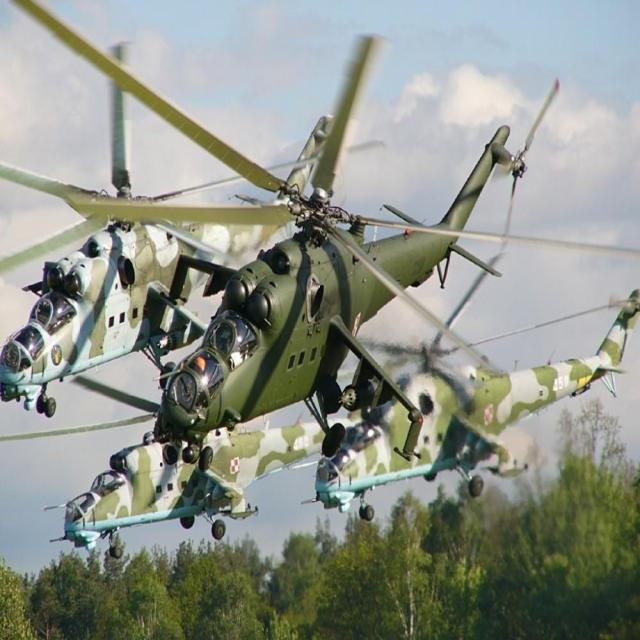MIL_HELO: (0, 0, 640, 469), (0, 160, 317, 417), (286, 290, 640, 504), (51, 386, 331, 553)
